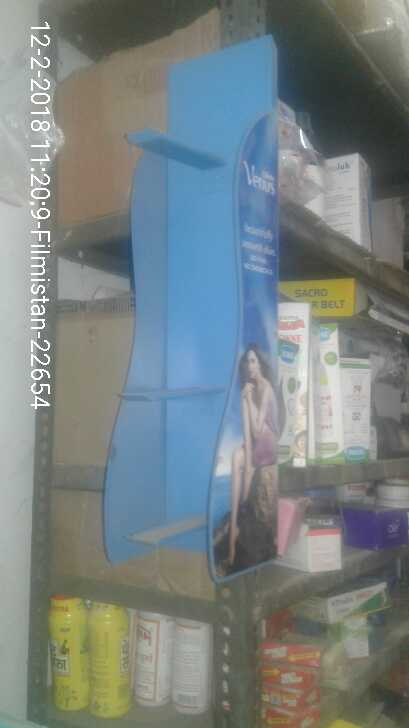reject: (135, 189, 274, 358)
